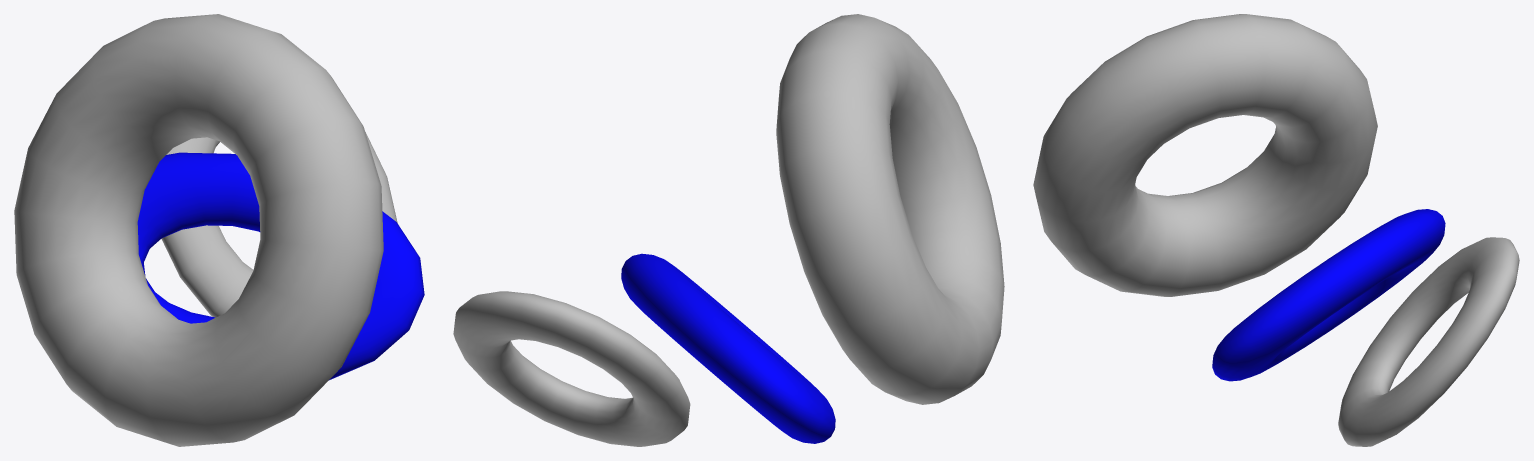
The model's file is effect_lambert_diffuse_color.dae.
3 views of the same model, side by side, from view 1: azimuth 30°, elevation 25°; view 2: azimuth 150°, elevation 25°; view 3: azimuth 270°, elevation 25° (orthographic). The views are drawn at different scales.
Visible parts, largest first — view 1: pTorus3, pTorus1, pTorus2; view 2: pTorus3, pTorus2, pTorus1; view 3: pTorus3, pTorus2, pTorus1.
Part boxes in pixels (x1=…): pTorus3: x1=14, y1=14, x2=383, y2=446; pTorus1: x1=137, y1=152, x2=424, y2=380; pTorus2: x1=161, y1=132, x2=397, y2=317; pTorus3: x1=776, y1=14, x2=1004, y2=404; pTorus2: x1=453, y1=291, x2=690, y2=446; pTorus1: x1=621, y1=253, x2=835, y2=443; pTorus3: x1=1033, y1=14, x2=1377, y2=296; pTorus2: x1=1338, y1=237, x2=1519, y2=446; pTorus1: x1=1212, y1=209, x2=1445, y2=381.
Size of the model in its own units: 308 by 283 by 357.
